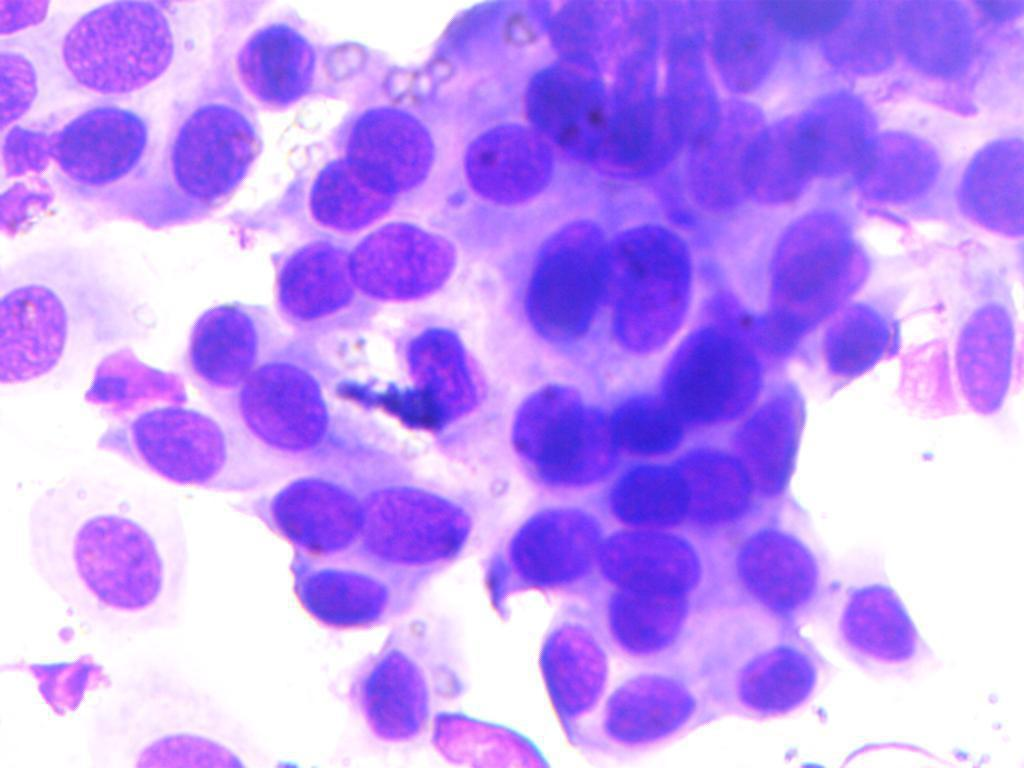epithelial: (17, 486, 179, 639), (839, 570, 953, 709), (762, 203, 867, 342), (947, 245, 1020, 436), (0, 259, 84, 401), (399, 318, 497, 436), (334, 636, 434, 751), (52, 2, 174, 93), (165, 99, 260, 215), (349, 219, 460, 310), (240, 356, 342, 454), (47, 97, 159, 186), (345, 99, 441, 201), (727, 517, 822, 620), (360, 475, 475, 560), (740, 97, 824, 211), (454, 121, 554, 214), (503, 499, 603, 591), (954, 128, 1024, 257), (686, 98, 768, 207), (271, 237, 361, 334), (548, 0, 666, 73), (430, 698, 551, 768), (296, 156, 399, 236), (703, 0, 792, 92), (604, 667, 707, 746), (599, 524, 704, 600), (796, 92, 882, 183), (239, 17, 318, 115), (896, 0, 980, 92), (850, 132, 953, 207), (726, 638, 820, 719), (179, 294, 258, 390), (812, 0, 904, 79), (267, 471, 365, 545), (282, 567, 404, 626), (132, 404, 226, 480), (824, 302, 913, 382), (609, 581, 692, 660), (670, 34, 719, 162), (121, 726, 267, 768), (0, 39, 41, 142)
goblet_cell: (531, 612, 609, 737)
metaplastic: (601, 221, 698, 357), (661, 317, 770, 436), (512, 217, 608, 342), (729, 386, 818, 501), (581, 89, 683, 187), (527, 53, 611, 169), (673, 443, 756, 530), (540, 403, 621, 490), (507, 379, 586, 468), (606, 461, 694, 530), (618, 387, 686, 461)
